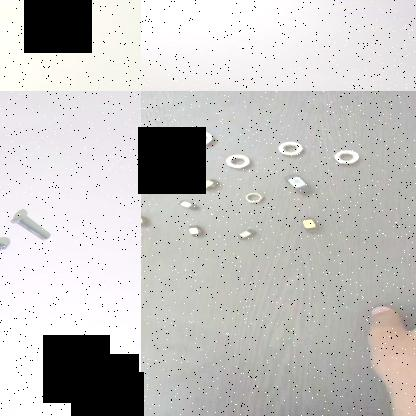Bolts: (6, 209, 54, 243)
NUTS: (277, 171, 315, 195), (272, 135, 306, 158), (330, 146, 364, 166), (186, 127, 216, 146), (156, 149, 186, 167), (298, 216, 326, 234), (225, 151, 251, 169), (234, 226, 262, 242), (198, 176, 224, 192), (175, 197, 201, 211), (242, 191, 268, 203), (184, 222, 206, 236), (141, 178, 155, 192), (141, 212, 150, 227)
